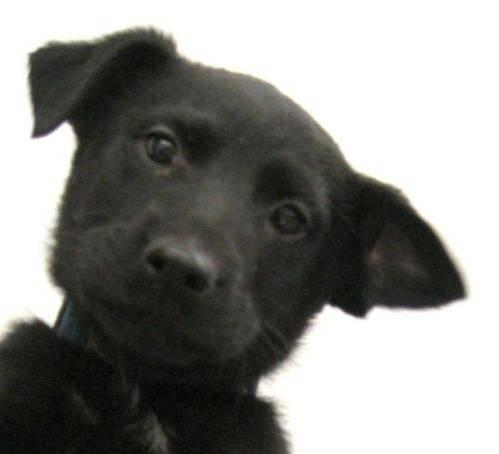dog: (0, 29, 464, 453)
